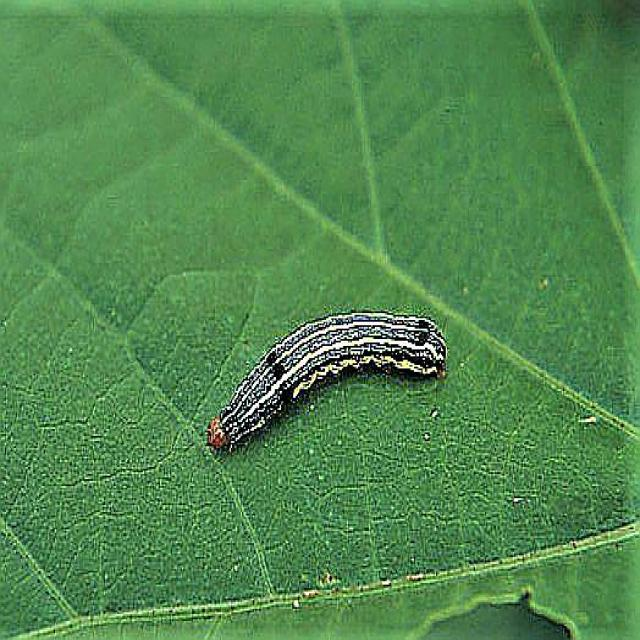Armyworm: (159, 258, 465, 562)
